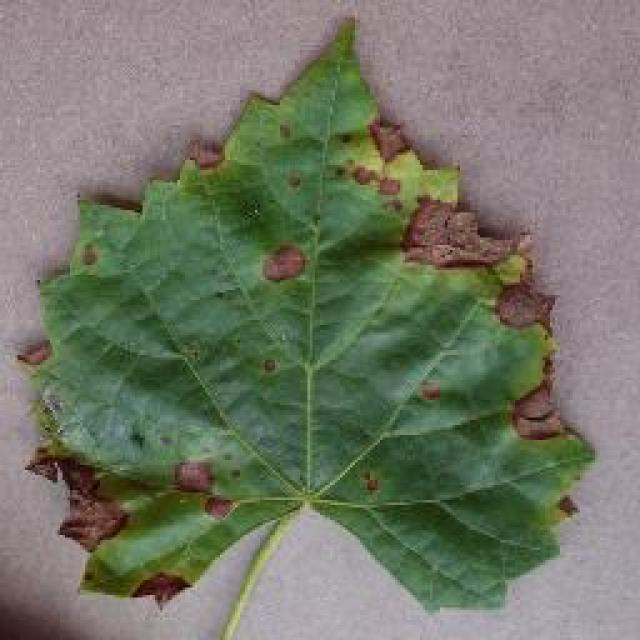Grape___Black_rot: (3, 11, 604, 638)
